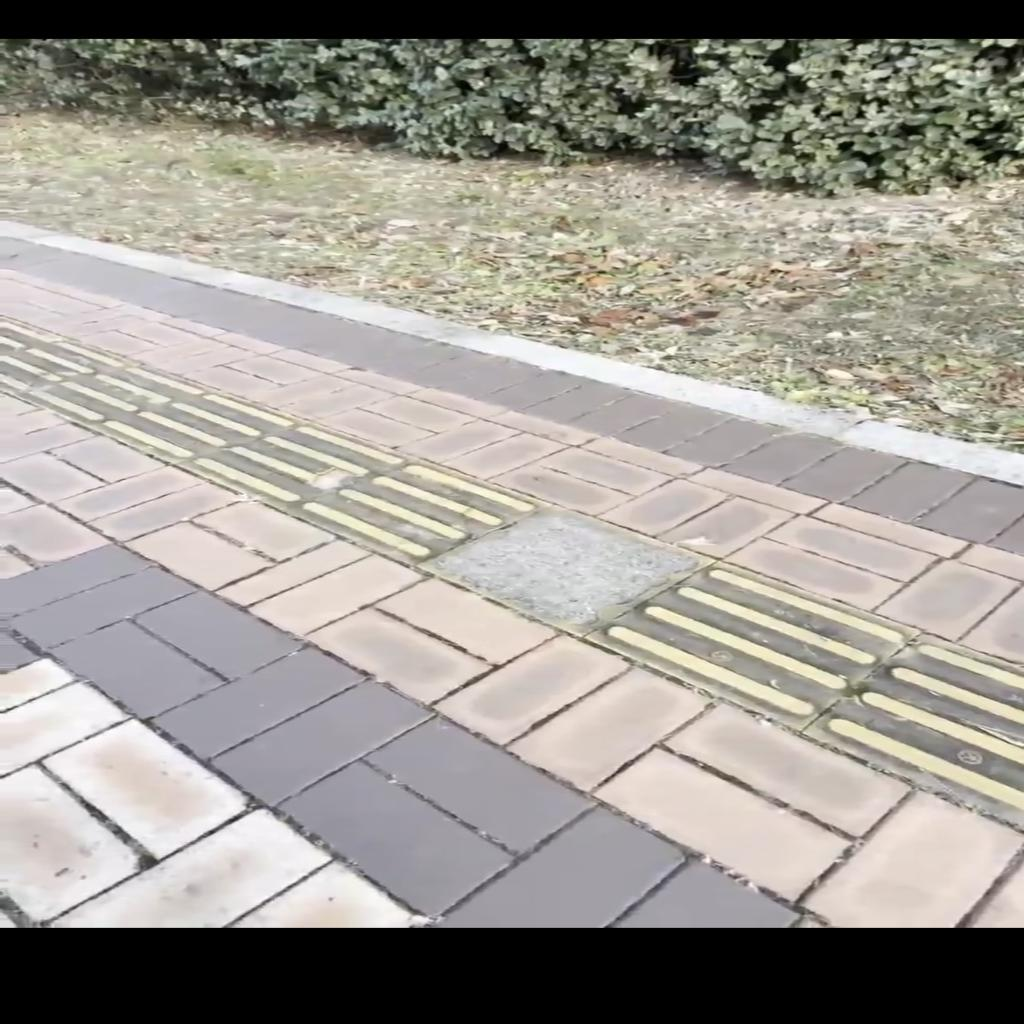Straight block broken: (413, 468, 715, 668), (173, 384, 415, 539)
Straight block normal: (579, 528, 915, 757), (280, 413, 551, 606)
